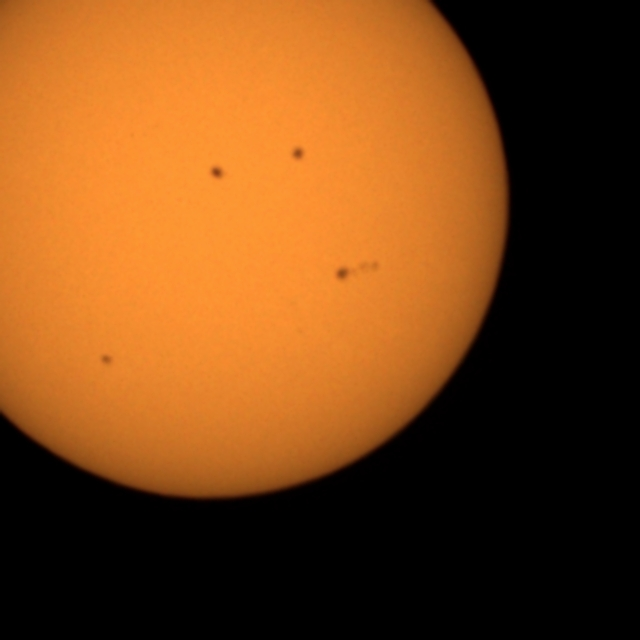sunspot: (333, 258, 382, 285), (207, 163, 228, 183), (288, 144, 308, 164), (333, 264, 352, 284), (98, 352, 115, 368)
